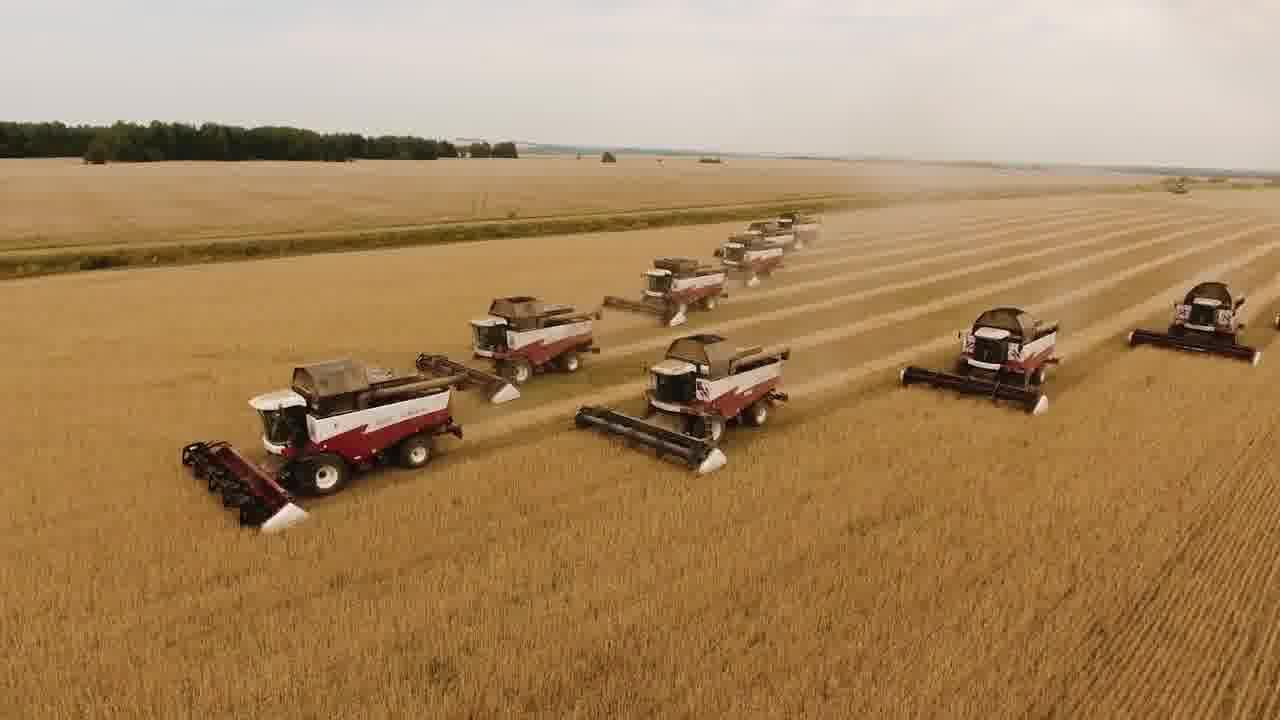combine harvester: (174, 349, 520, 543), (572, 327, 790, 480), (413, 292, 603, 408), (894, 299, 1064, 422), (1124, 278, 1263, 374), (602, 249, 731, 333), (715, 230, 789, 289), (777, 209, 827, 242)
